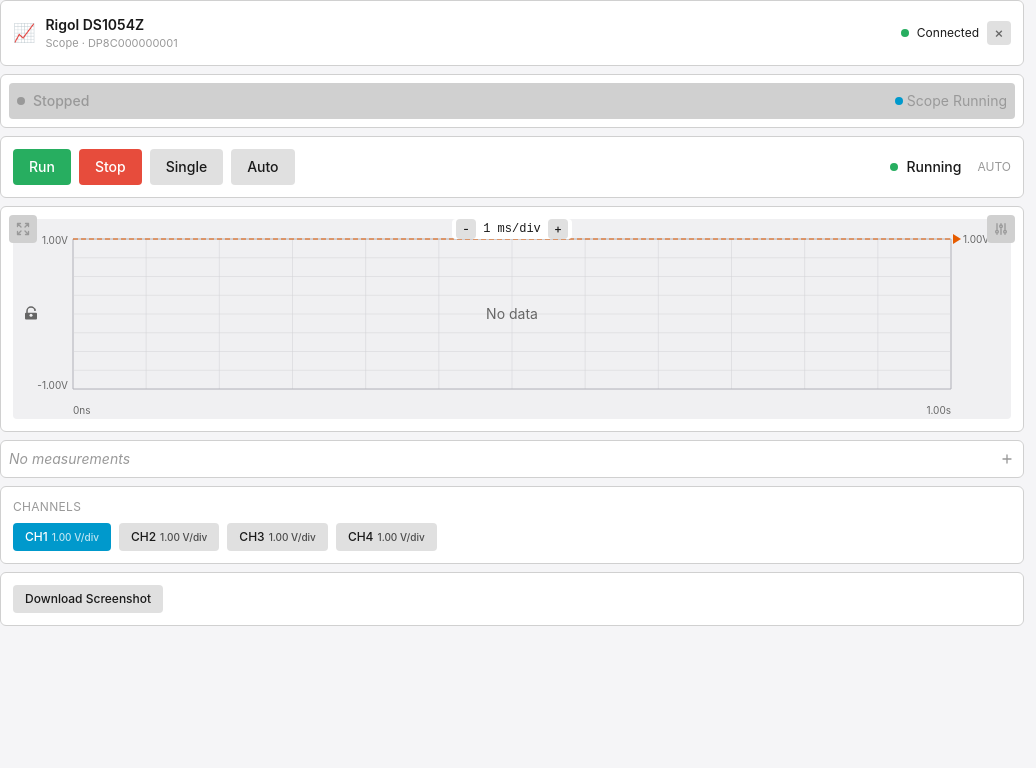
OscilloscopePanel Integration › Screenshot › should request screenshot when button clicked
The width and height of the screenshot is (1036, 768).
What coordinates should you click on to do the following:
click the button "Download Screenshot"
I would click on:
 (88, 599)
Its box is [13,585,163,613].
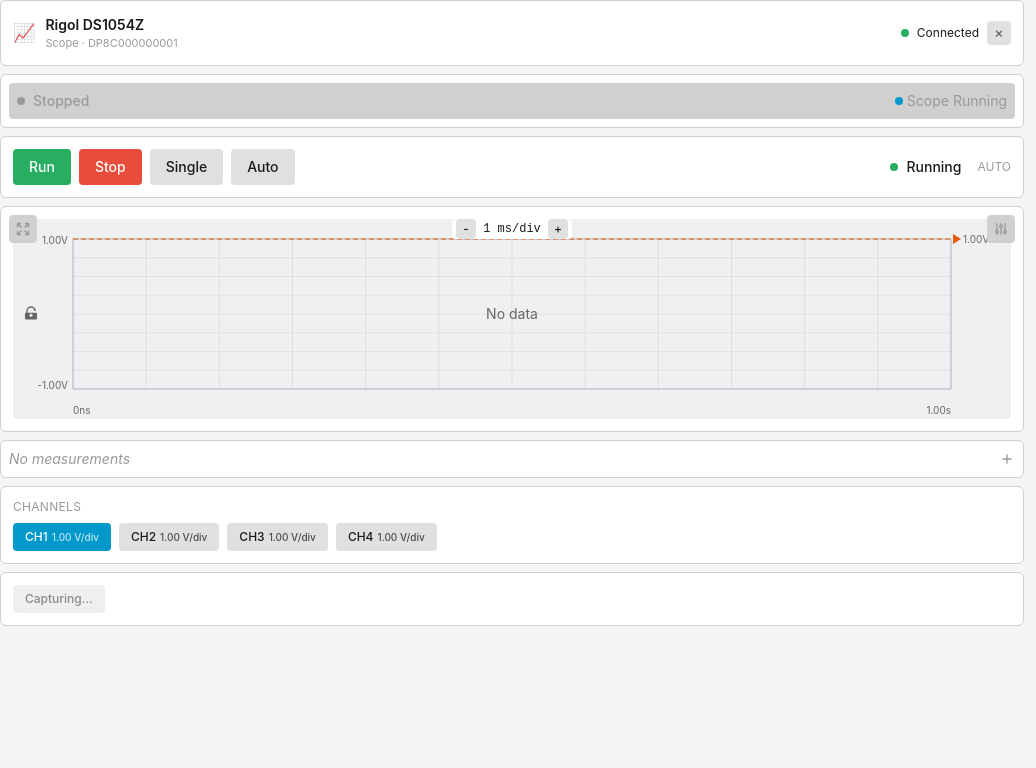
Expected: the button "Capturing..." is shown, [13,585,105,613]
